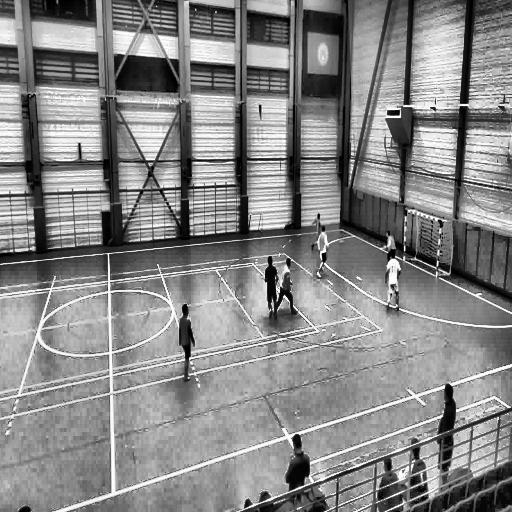ball: (339, 235, 346, 247)
player: (437, 385, 456, 489), (180, 301, 198, 382), (275, 258, 297, 317), (384, 252, 401, 316), (264, 256, 278, 318), (316, 226, 330, 280), (310, 209, 324, 254), (385, 230, 396, 264)
